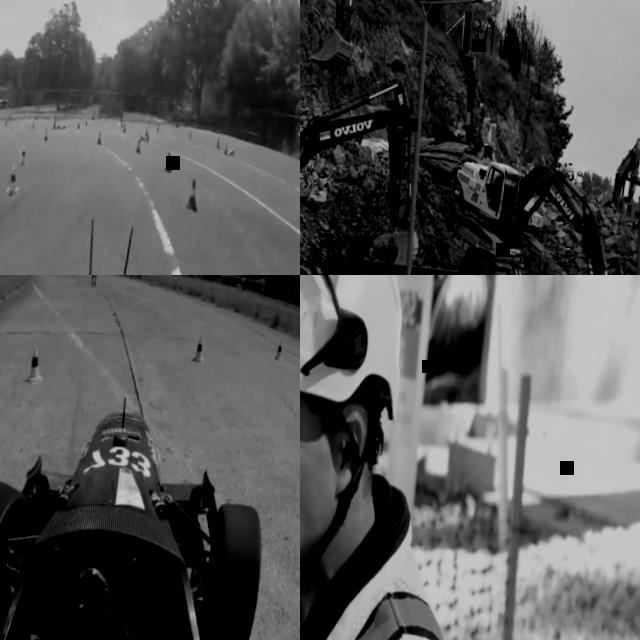Hardhat: (300, 275, 412, 425), (497, 176, 501, 182), (563, 161, 567, 166), (557, 160, 562, 164), (568, 160, 573, 164), (577, 171, 581, 176)
NO-Mask: (300, 439, 330, 580)
Person: (300, 275, 494, 640), (490, 175, 501, 194), (566, 160, 576, 180), (575, 170, 584, 186), (89, 275, 100, 287), (556, 160, 563, 172), (562, 160, 568, 172)
Safety Cone: (23, 345, 45, 387), (5, 162, 22, 199), (183, 177, 202, 209), (192, 336, 205, 371), (274, 339, 286, 368), (165, 148, 174, 182), (19, 147, 26, 166), (96, 129, 103, 146), (135, 140, 142, 154), (223, 143, 228, 159), (139, 133, 147, 142), (228, 148, 235, 156), (44, 127, 48, 141), (146, 130, 150, 143), (187, 131, 192, 140), (156, 123, 160, 133), (123, 124, 127, 133), (53, 120, 56, 130), (77, 121, 80, 129), (121, 122, 123, 129), (85, 119, 87, 126)
Safety Vest: (300, 511, 472, 640), (490, 177, 499, 192), (566, 166, 574, 179), (575, 176, 583, 184), (556, 165, 562, 171), (564, 166, 567, 172)
machinery: (300, 64, 430, 275), (431, 156, 622, 275), (451, 2, 509, 162), (357, 237, 527, 275), (607, 134, 640, 254)
vehicle: (0, 382, 300, 640)
